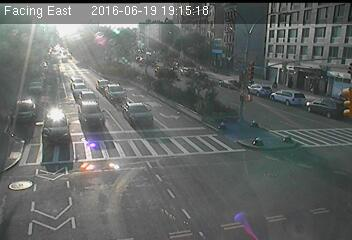neg: (119, 99, 152, 143), (262, 158, 294, 200), (188, 40, 219, 81), (78, 95, 107, 132), (62, 30, 88, 65), (91, 182, 117, 217), (198, 183, 221, 214), (59, 164, 82, 195), (143, 178, 164, 206), (33, 138, 53, 164), (198, 110, 217, 136), (28, 96, 47, 122), (256, 88, 275, 113), (178, 86, 195, 109), (301, 127, 318, 150), (153, 41, 170, 64), (312, 81, 329, 103), (230, 134, 246, 155), (252, 123, 266, 142)
